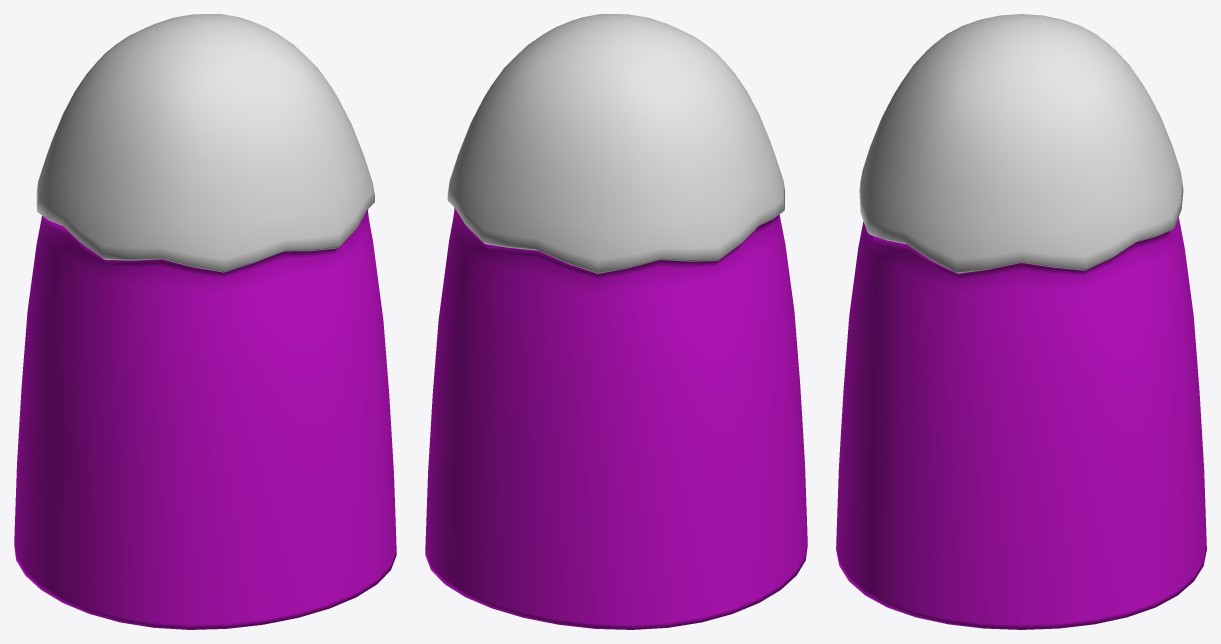
The model's file is Mountain2.fbx.
3 views of the same model, side by side, from view 1: azimuth 30°, elevation 25°; view 2: azimuth 150°, elevation 25°; view 3: azimuth 270°, elevation 25° (orthographic).
Visible parts, largest first — view 1: Cube.044; view 2: Cube.044; view 3: Cube.044.
Boxes of the visible parts, <box> form: Cube.044: <box>14,14,396,629</box>; Cube.044: <box>425,14,807,629</box>; Cube.044: <box>836,14,1206,629</box>.
Bounding box in the file's own units: 6.76 × 6.61 × 10.29.
